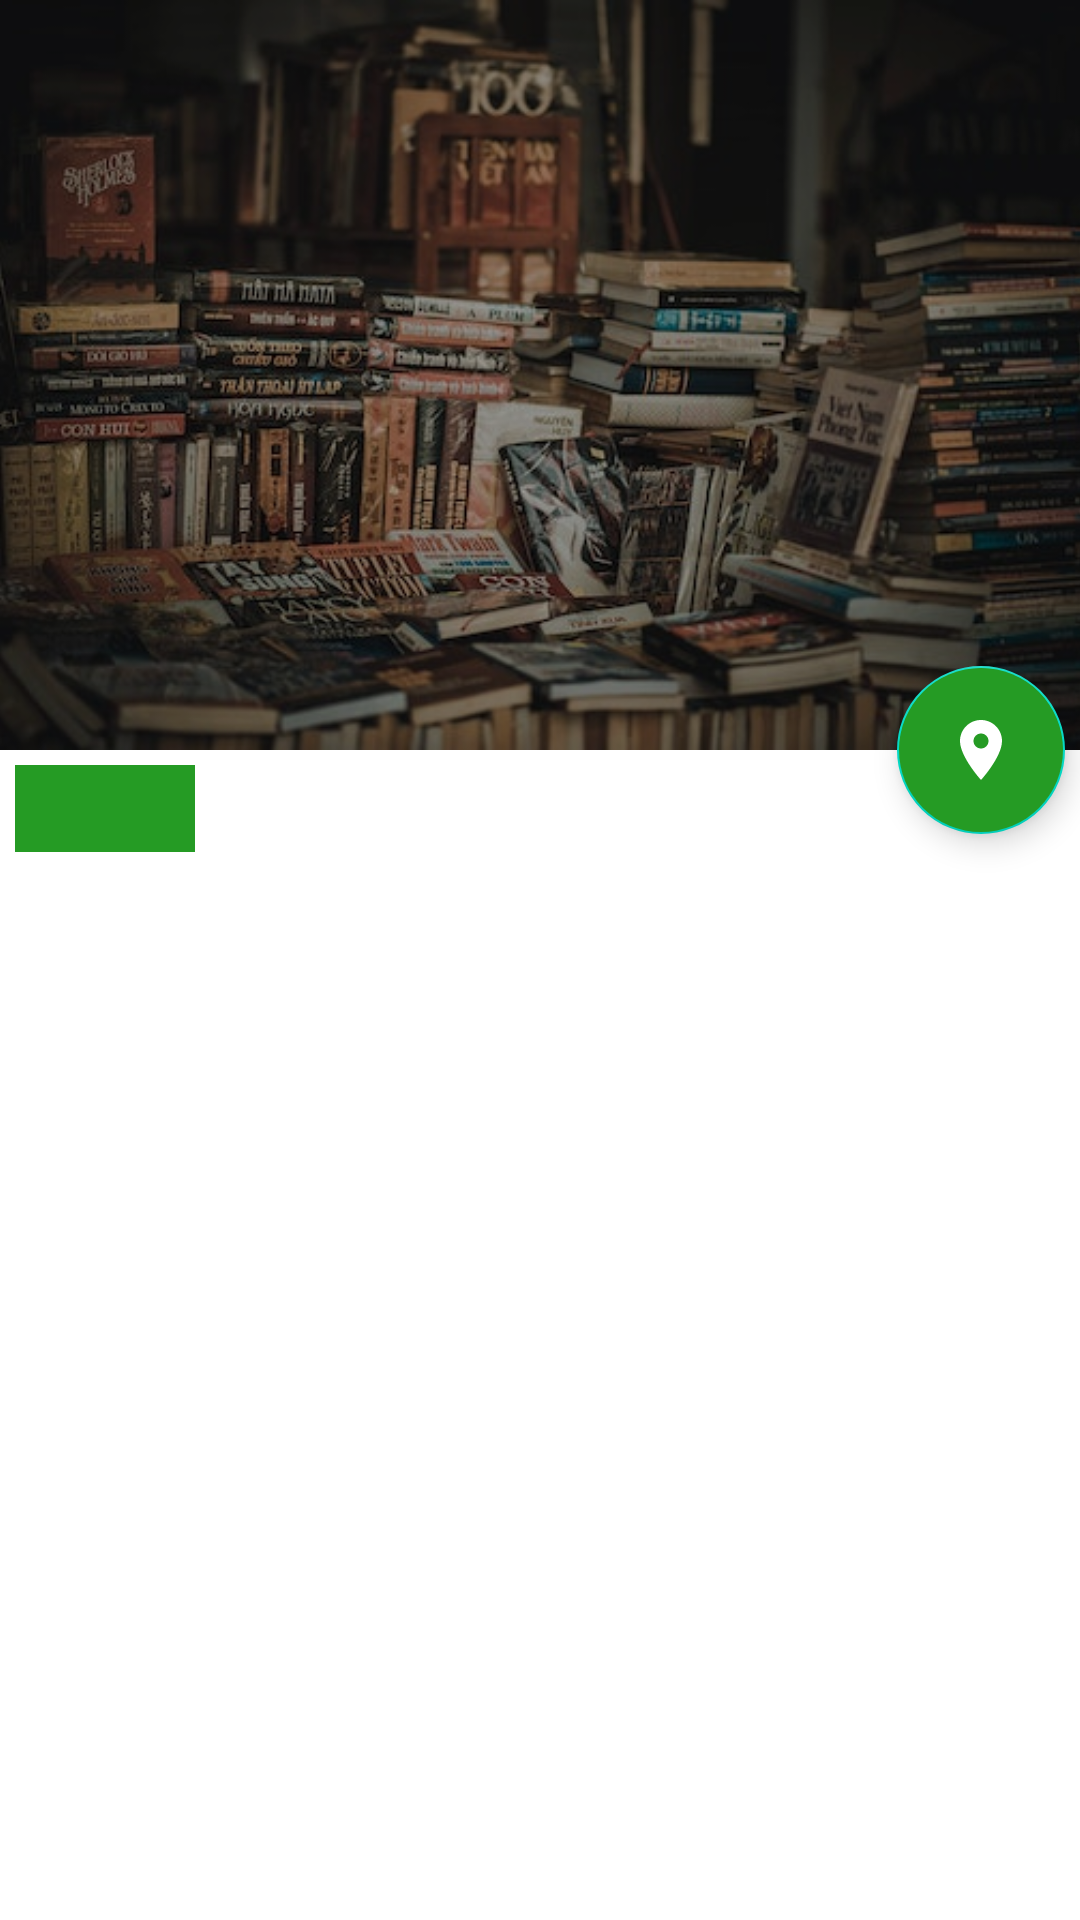

Icons on this 1080w x 1920h Android screen, each with the point to tap as [x,y]:
place map: [981,750]
